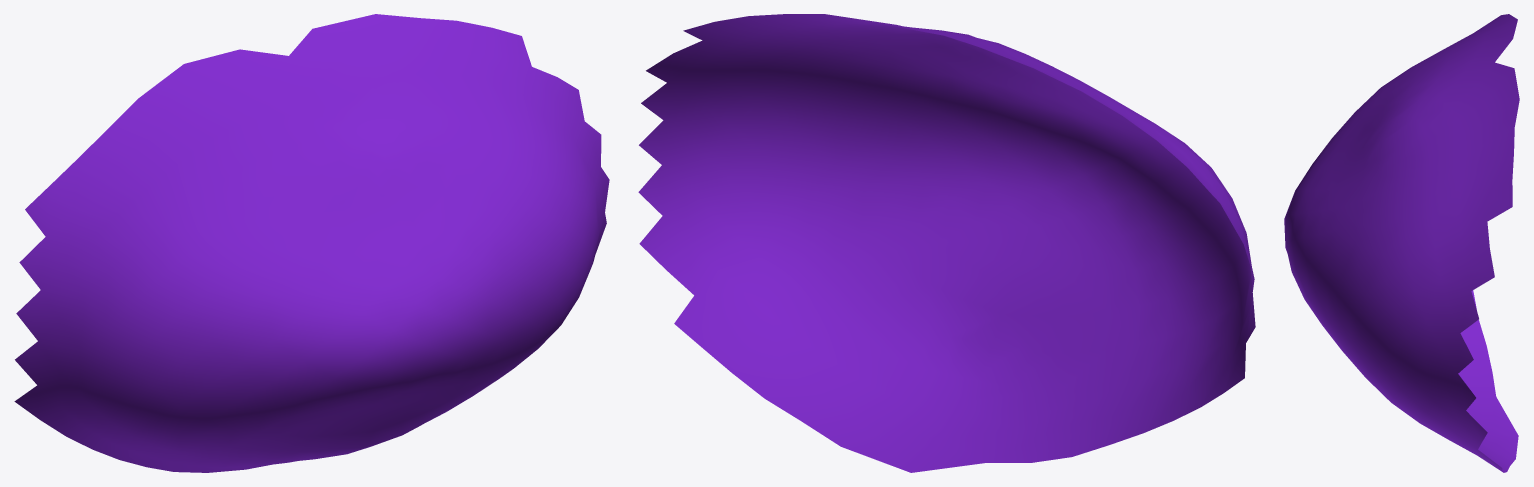
Rendered from dome_obl_opt_quad.obj.
3 views of the same model, side by side, from view 1: azimuth 30°, elevation 25°; view 2: azimuth 150°, elevation 25°; view 3: azimuth 270°, elevation 25° (orthographic). The views are drawn at different scales.
Bounding box in the file's own units: 13.9 × 9.55 × 5.45.
